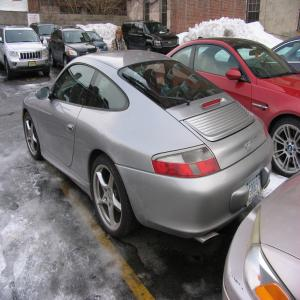Vehicle-registration-plate: (246, 175, 262, 204), (30, 62, 37, 68)
